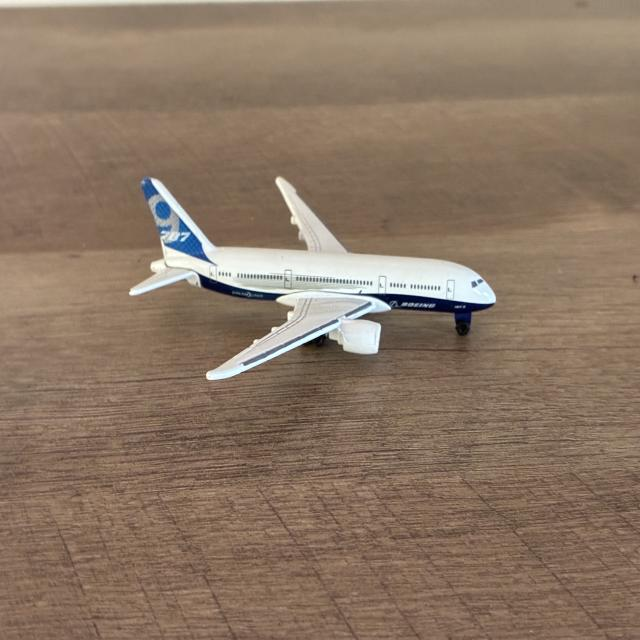air-plane: (130, 177, 495, 380)
